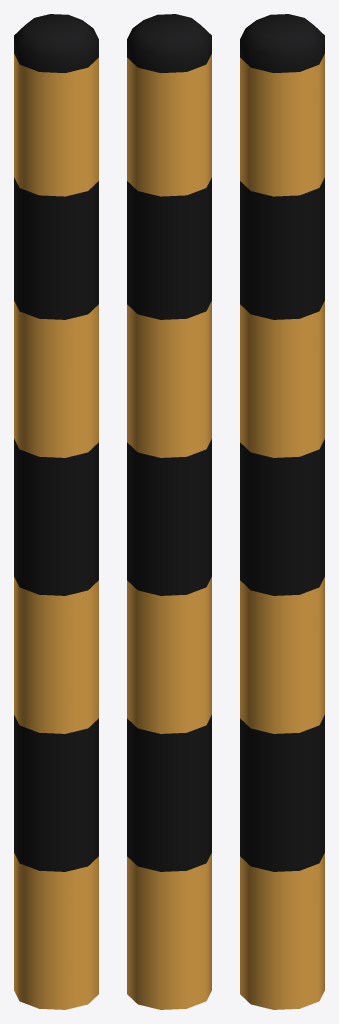
The model's file is FencePost.fbx.
3 views of the same model, side by side, from view 1: azimuth 30°, elevation 25°; view 2: azimuth 150°, elevation 25°; view 3: azimuth 330°, elevation 25° (orthographic).
Parts seen in each view (by area): view 1: FencePost; view 2: FencePost; view 3: FencePost.
Part boxes in pixels (bbox=[...]): FencePost: bbox=[14, 14, 98, 1009]; FencePost: bbox=[127, 14, 211, 1009]; FencePost: bbox=[240, 14, 324, 1009].
Size of the model in its own units: 16 by 200 by 15.22.
